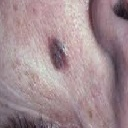Carcinoma: (45, 36, 71, 71)
